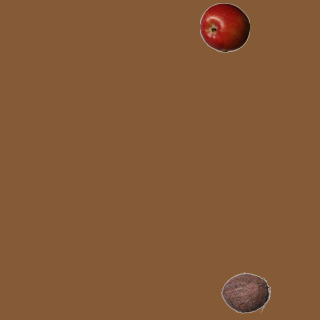Apple Braeburn: (199, 2, 249, 52)
Cocos: (220, 267, 270, 317)
